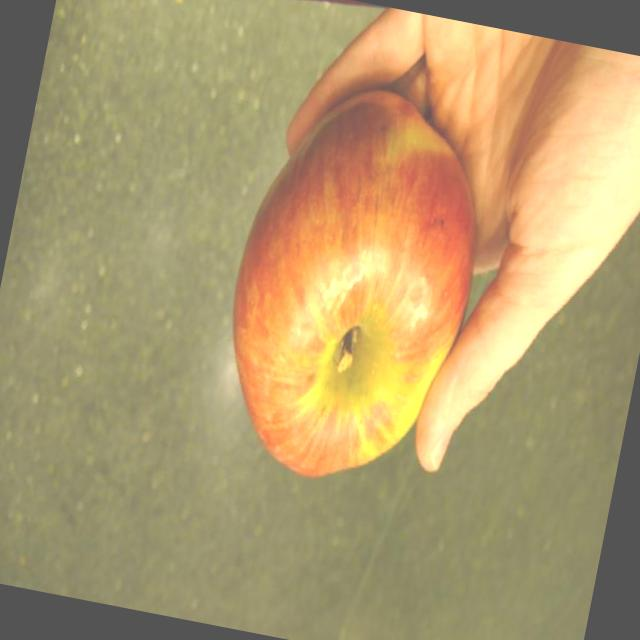Apple: (202, 70, 506, 503)
